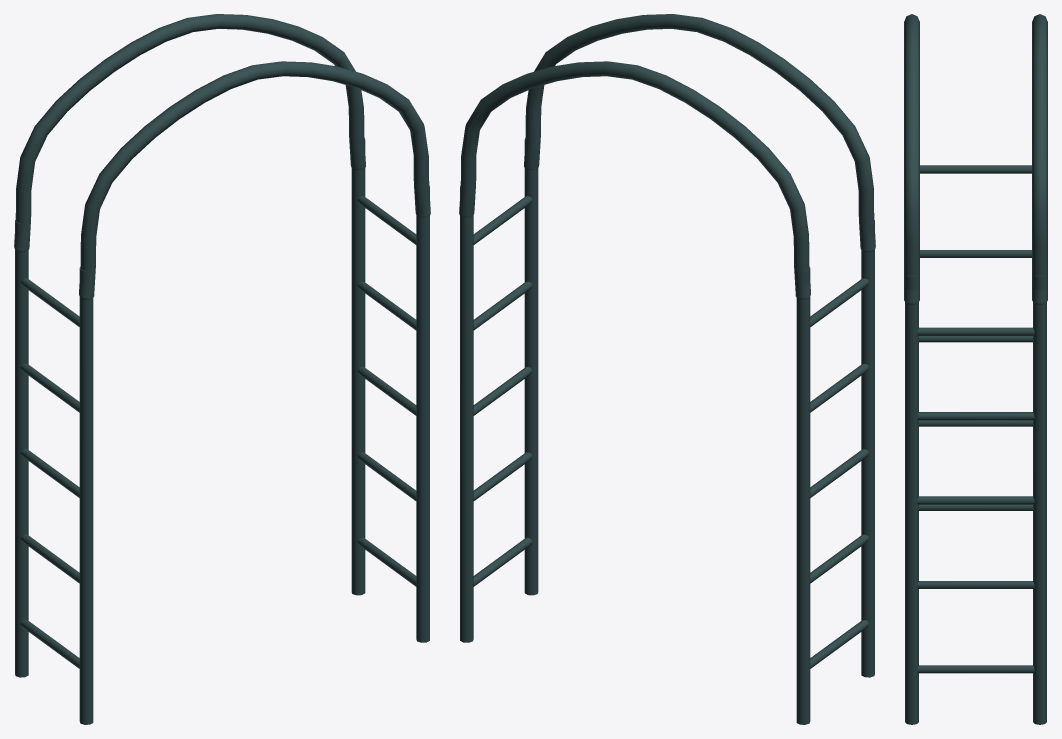
Rendered from almanac-gardens-rose-arch-03cdaff1__22016.glb.
The picture shows the model from 3 angles, left to right: view 1: azimuth 30°, elevation 25°; view 2: azimuth 150°, elevation 25°; view 3: azimuth 270°, elevation 25°; orthographic projection.
Parts seen in each view (by area): view 1: rose-arch-iron; view 2: rose-arch-iron; view 3: rose-arch-iron.
Part boxes in pixels (x1,y1,x2,y2): rose-arch-iron: (14,14,430,724); rose-arch-iron: (459,14,875,724); rose-arch-iron: (904,14,1047,724).
Size of the model in its own units: 1.37 by 2.31 by 0.494.
